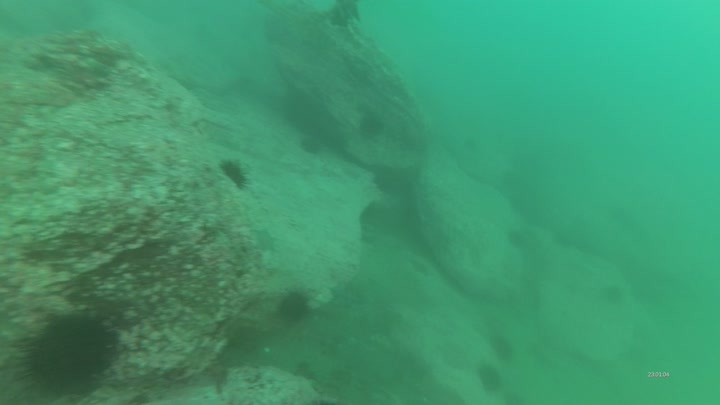echinus: (13, 307, 128, 402), (277, 286, 317, 328), (220, 158, 254, 190), (479, 363, 505, 398), (492, 335, 516, 364), (361, 115, 388, 139), (301, 137, 324, 158)
